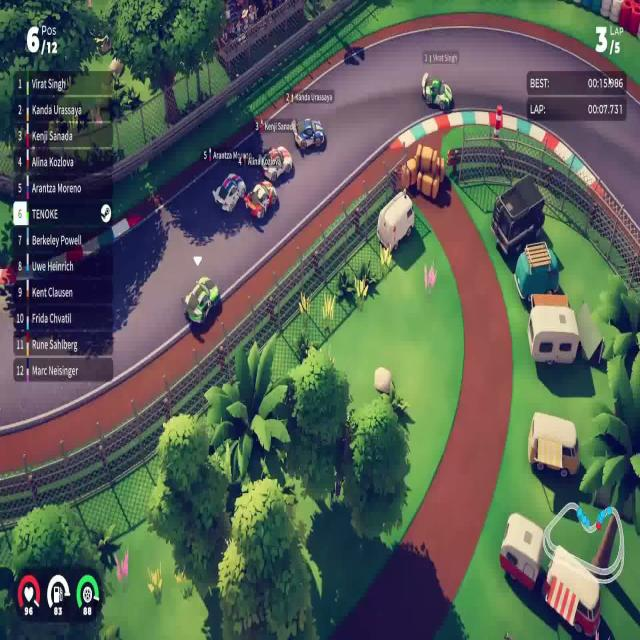car: (182, 275, 220, 327), (211, 171, 246, 214), (244, 179, 278, 220), (259, 144, 293, 183), (420, 70, 452, 111), (291, 116, 326, 151)
